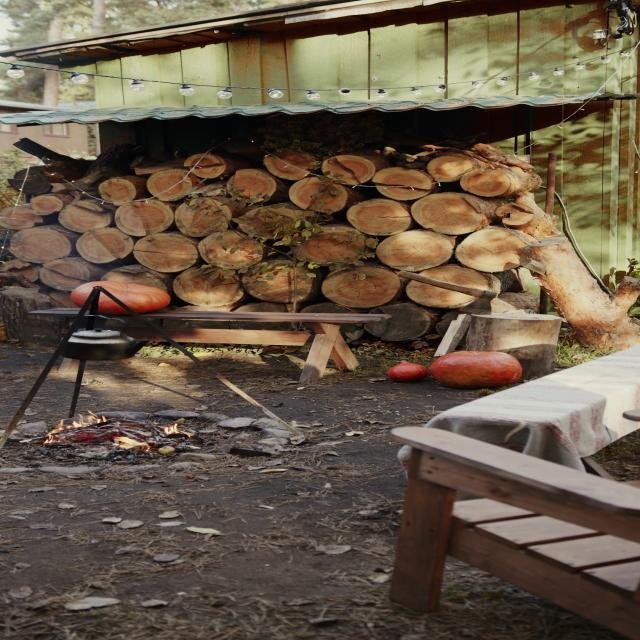Fire: (41, 408, 188, 448)
